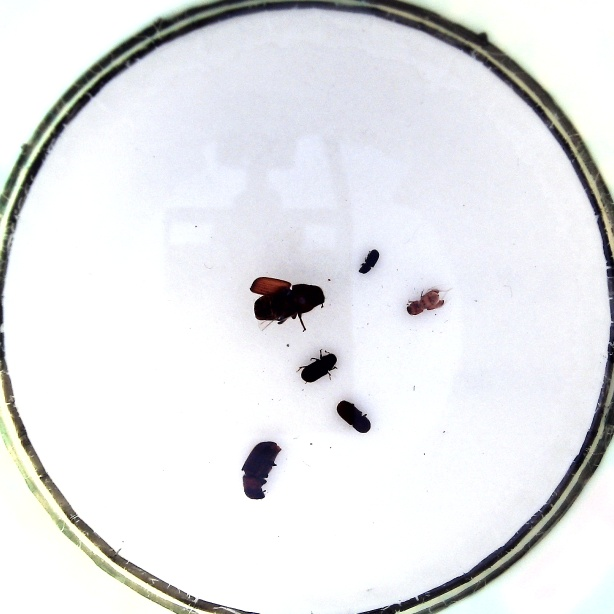acuminatus: (403, 288, 445, 317)
armandi: (298, 351, 339, 382)
coleoptera: (358, 248, 380, 275)
leconte: (249, 276, 327, 328), (240, 440, 280, 500)
linnaeus: (335, 399, 372, 434)
